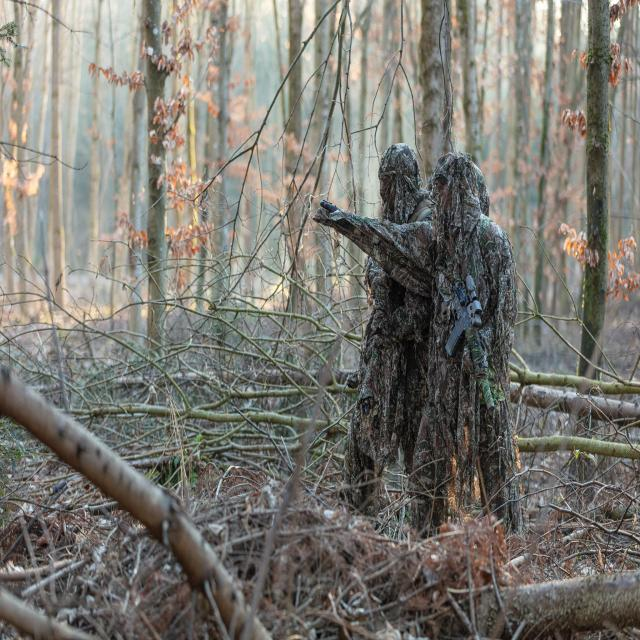Human: (313, 146, 519, 537)
